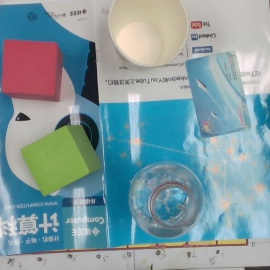bottle: (128, 162, 206, 240)
card: (186, 50, 252, 137)
cup: (107, 1, 189, 66)
